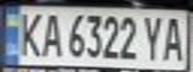2: (118, 11, 142, 61), (103, 11, 121, 61)
3: (81, 11, 106, 60)
6: (63, 10, 87, 58)
A: (160, 12, 187, 62), (39, 10, 63, 57)
K: (15, 8, 45, 57)
Y: (139, 12, 169, 62)
